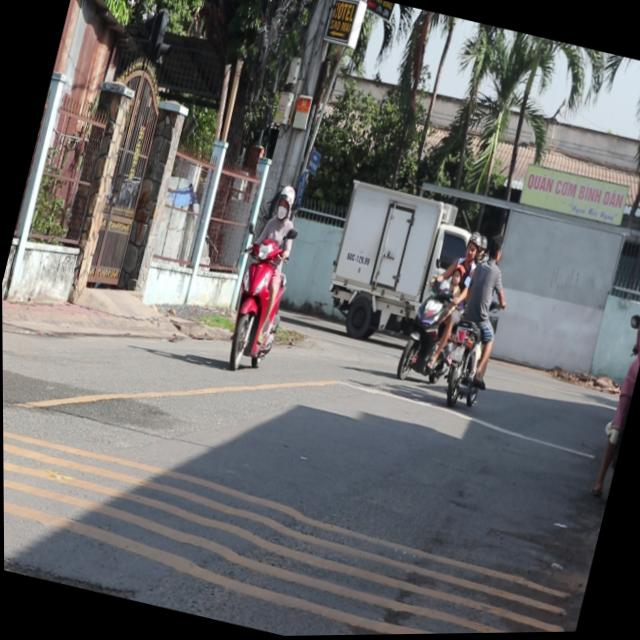helmet: (271, 183, 297, 222)
licenseplate: (216, 177, 313, 379), (585, 240, 640, 501)
